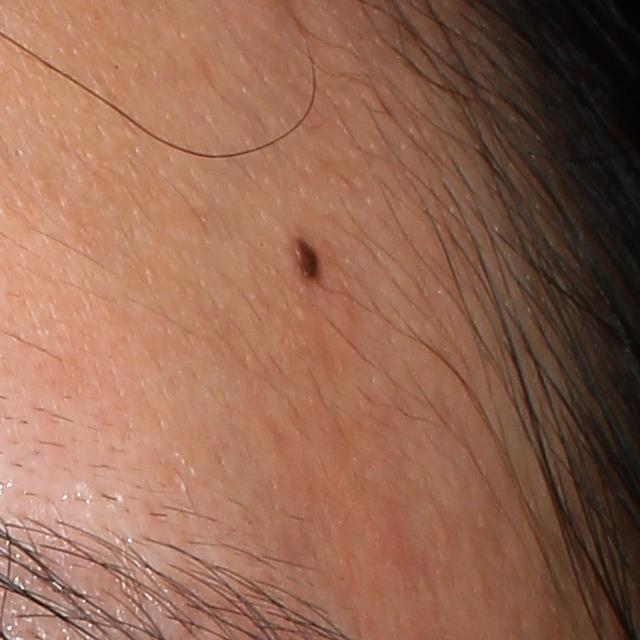nevus: (294, 234, 322, 285)
